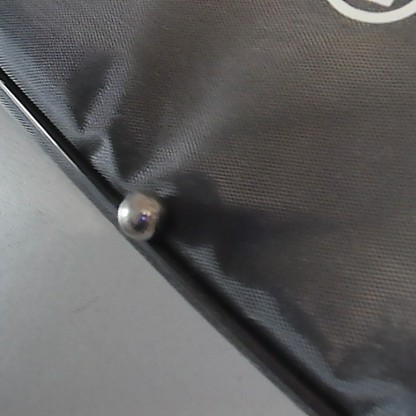ironball: (117, 193, 163, 238)
